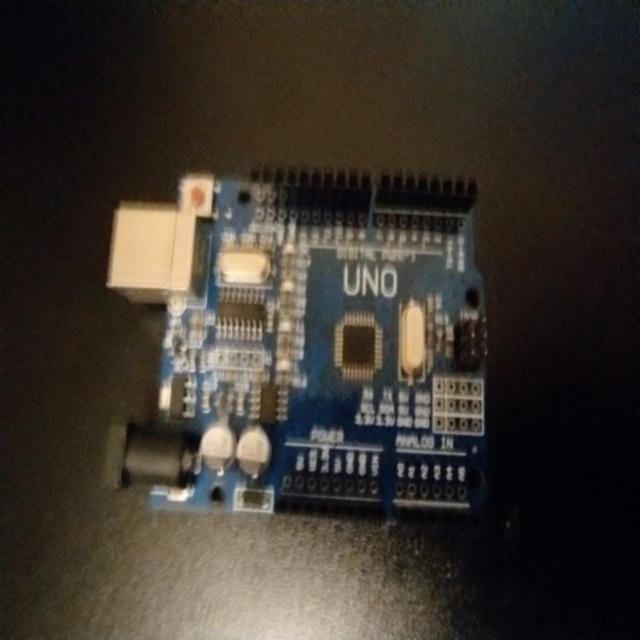arduino: (111, 145, 496, 533)
